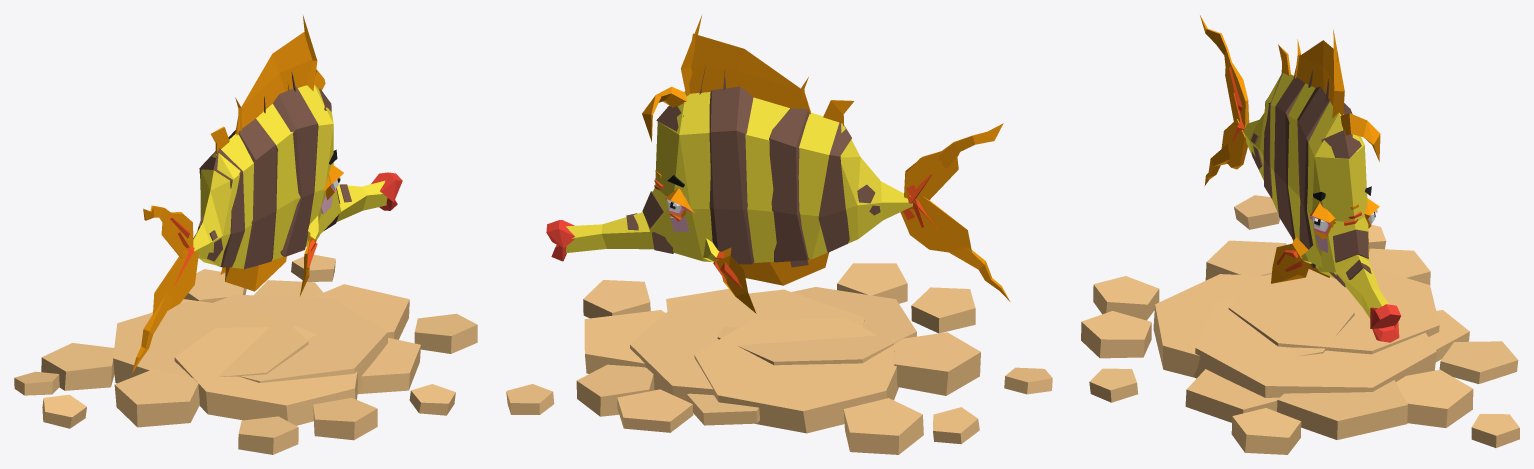
File: quick-little-zebra-fish.glb
The picture shows the model from 3 angles, left to right: view 1: azimuth 30°, elevation 25°; view 2: azimuth 150°, elevation 25°; view 3: azimuth 270°, elevation 25°; orthographic projection. The views are drawn at different scales.
Parts seen in each view (by area): view 1: group2035978991, group1442964144; view 2: group2035978991, group1442964144; view 3: group2035978991, group1442964144.
Boxes of the visible parts, x1,y1,x2,y2 form: group2035978991: [14, 255, 477, 454]; group1442964144: [132, 15, 402, 373]; group2035978991: [506, 263, 1052, 454]; group1442964144: [546, 14, 1010, 313]; group2035978991: [1081, 195, 1519, 454]; group1442964144: [1200, 15, 1401, 342].
Bounding box in the file's own units: 1.3 × 0.9841 × 1.07.
